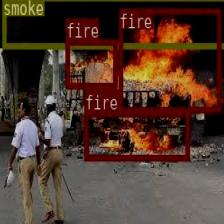fire: (118, 7, 220, 112), (84, 110, 189, 160), (64, 38, 116, 88)
smoke: (1, 0, 224, 47)
